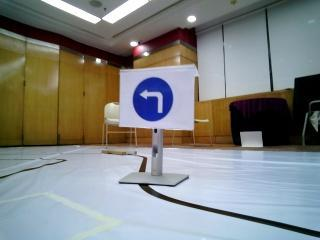left: (123, 75, 183, 124)
